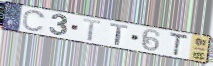3: (48, 13, 69, 37)
6: (141, 28, 161, 52)
C: (21, 9, 47, 33)
T: (168, 31, 190, 58), (82, 17, 103, 43), (110, 23, 130, 47)
